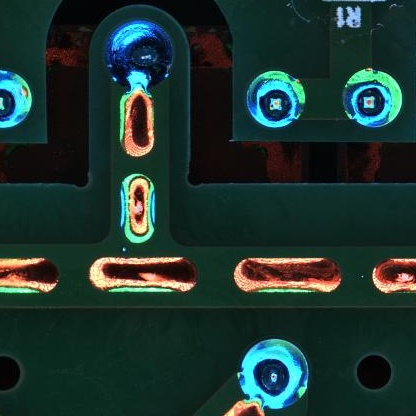spot: (238, 339, 308, 411), (105, 19, 176, 86), (341, 66, 402, 129), (245, 70, 306, 128), (1, 68, 34, 130)
